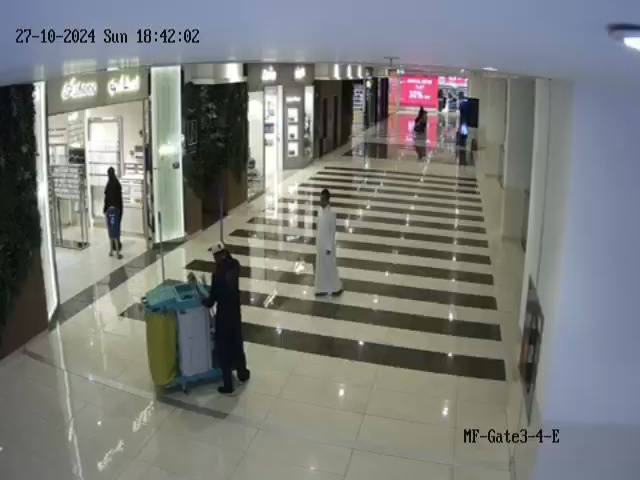female: (103, 166, 124, 259), (413, 106, 428, 161)
male: (200, 241, 251, 395), (307, 181, 349, 308)
